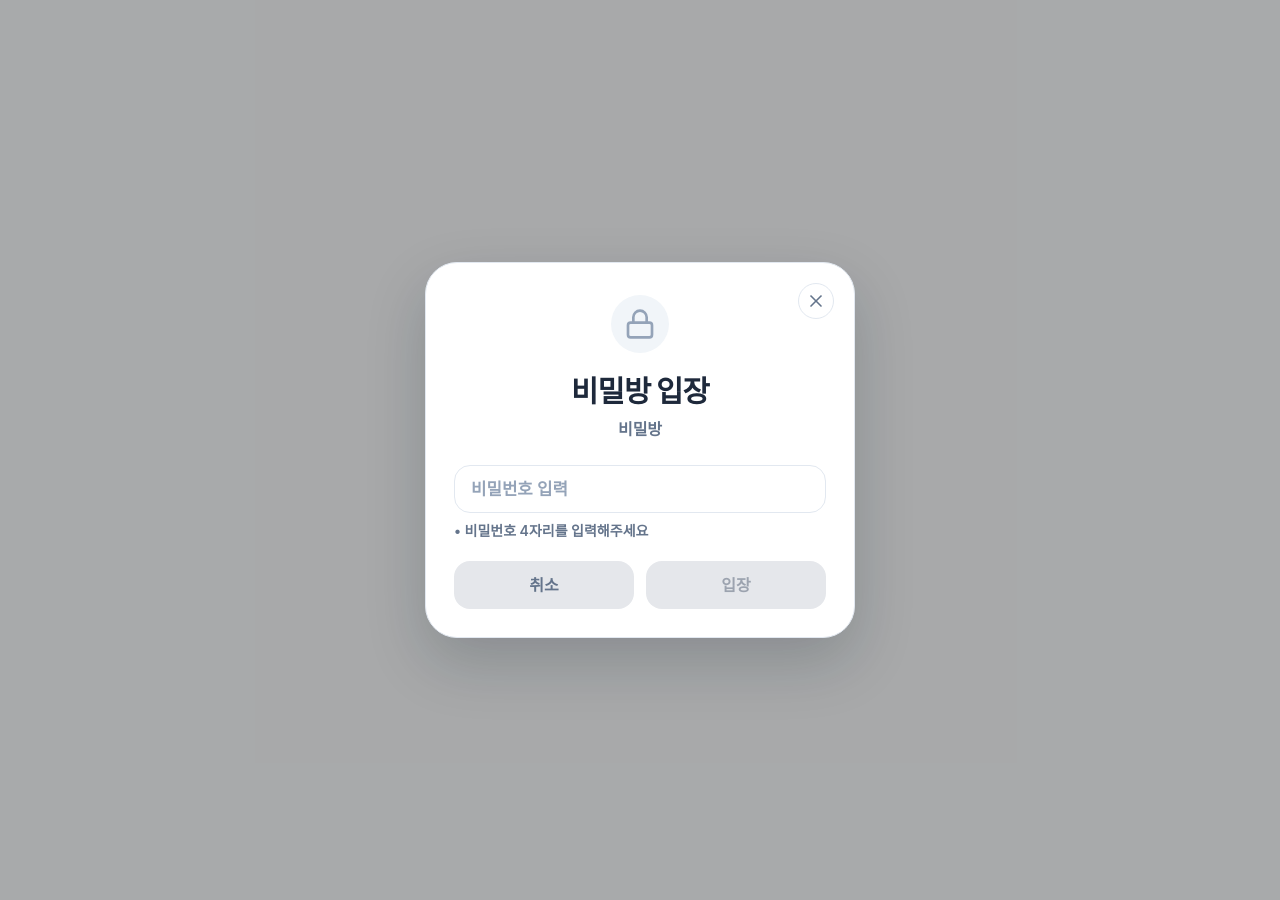
Test: PrivateRoomJoinModal › 비밀번호 입력은 브라우저 비밀번호 필드가 아닌 숫자 코드 입력으로 렌더링한다
Type "12ab34" into the field with placeholder "비밀번호 입력". click: (640, 489)
box: [454,465,826,513]
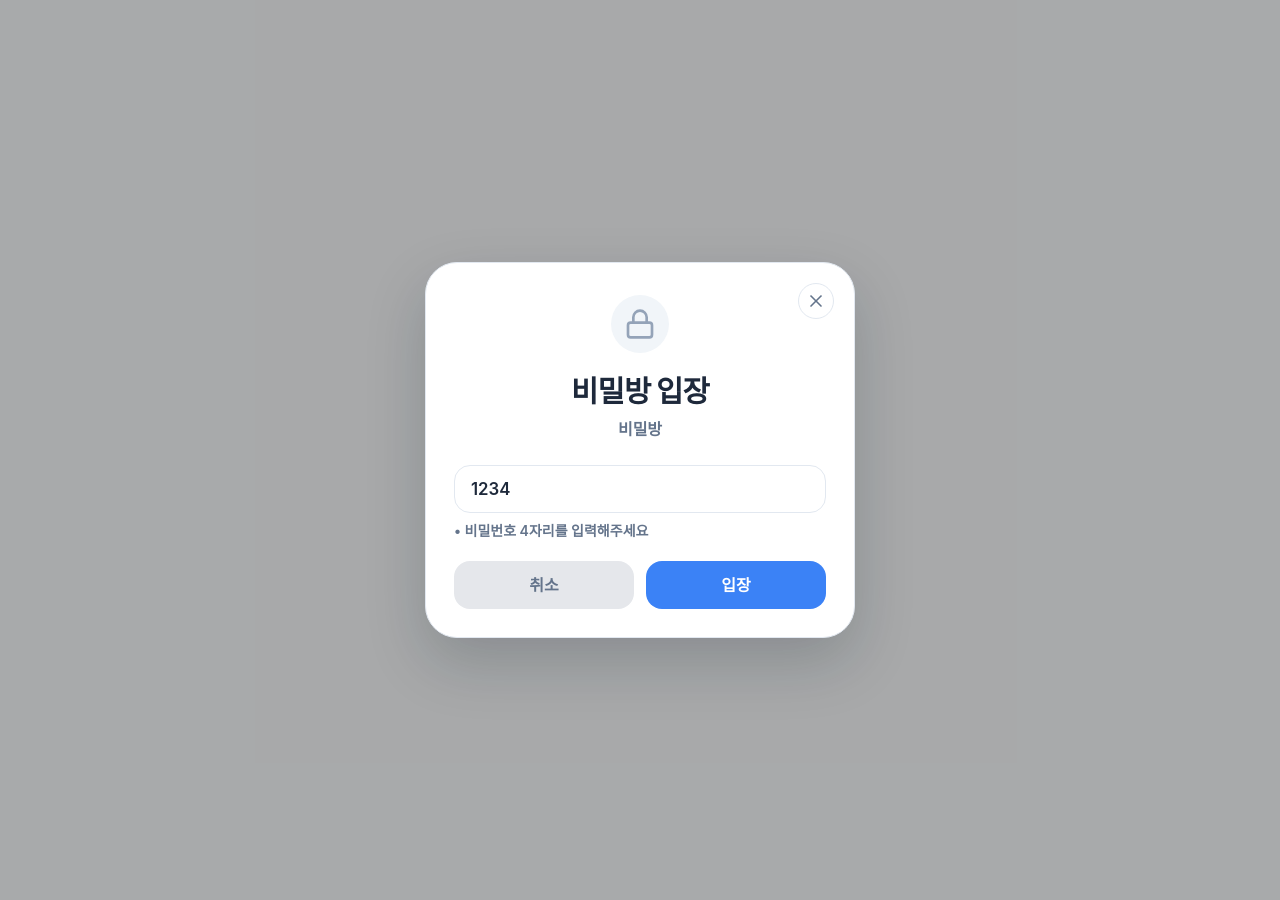
Expected: the field with placeholder "비밀번호 입력" holds "1234", [454,465,826,513]
